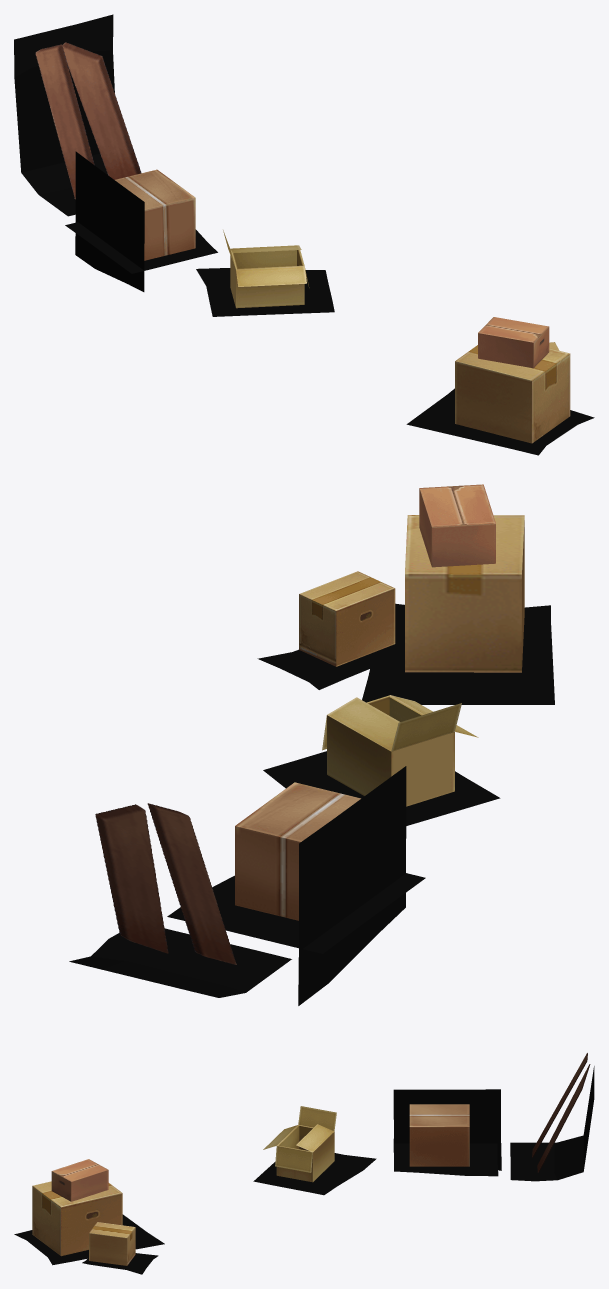
File: K1_oldornament6.FBX
3 renders of one model, top to bottom at view 1: azimuth 30°, elevation 25°; view 2: azimuth 150°, elevation 25°; view 3: azimuth 270°, elevation 25°, orthographic. The views are drawn at different scales.
Visible parts, largest first — view 1: oldornament6_yy_00, xian4, xian1_yy1, Plane1085, xian2, xian1, Plane1086, xian2_yy, xian3, oldornament6_yy_01, xian1_yy2; view 2: xian4, xian1_yy1, xian2, xian1, oldornament6_yy_01, xian5, oldornament6_yy_00, Plane1085, Plane1086, xian3, xian1_yy2, xian2_yy (+1 smaller); view 3: xian4, xian1, xian1_yy1, xian2, oldornament6_yy_00, xian2_yy, xian1_yy2, xian3, xian5, oldornament6_yy_01, Plane1085, oldornament6_yy_02 (+1 smaller).
Boxes of the visible parts, x1,y1,x2,y2 form: oldornament6_yy_00: (14, 14, 114, 216); xian4: (455, 345, 570, 443); xian1_yy1: (75, 151, 144, 291); Plane1085: (62, 42, 141, 179); xian2: (223, 230, 309, 308); xian1: (115, 169, 195, 260); Plane1086: (35, 44, 94, 199); xian2_yy: (196, 268, 334, 316); xian3: (478, 317, 549, 368); oldornament6_yy_01: (406, 388, 594, 455); xian1_yy2: (65, 222, 217, 273); xian4: (405, 515, 524, 672); xian1_yy1: (298, 766, 406, 1005); xian2: (322, 695, 478, 806); xian1: (235, 782, 360, 920); oldornament6_yy_01: (362, 603, 554, 704); xian5: (299, 571, 395, 666); oldornament6_yy_00: (69, 928, 291, 997); Plane1085: (95, 804, 168, 953); Plane1086: (147, 803, 236, 964); xian3: (419, 484, 495, 567); xian1_yy2: (167, 873, 425, 953); xian2_yy: (263, 751, 500, 825); xian4: (32, 1181, 122, 1256); xian1: (409, 1104, 469, 1166); xian1_yy1: (393, 1089, 501, 1170); xian2: (263, 1106, 336, 1182); oldornament6_yy_00: (510, 1066, 594, 1181); xian2_yy: (253, 1153, 376, 1195); xian1_yy2: (393, 1139, 498, 1176); xian3: (51, 1159, 108, 1201); xian5: (89, 1222, 135, 1265); oldornament6_yy_01: (14, 1214, 164, 1265); Plane1085: (537, 1064, 590, 1172); oldornament6_yy_02: (82, 1253, 158, 1274).
Bounding box in the file's own units: 2.35 × 1.51 × 5.62.
